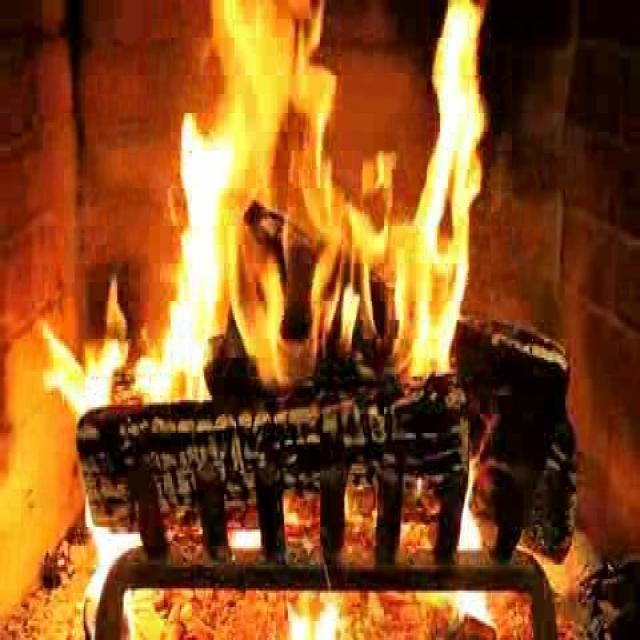Fire: (177, 3, 479, 403)
